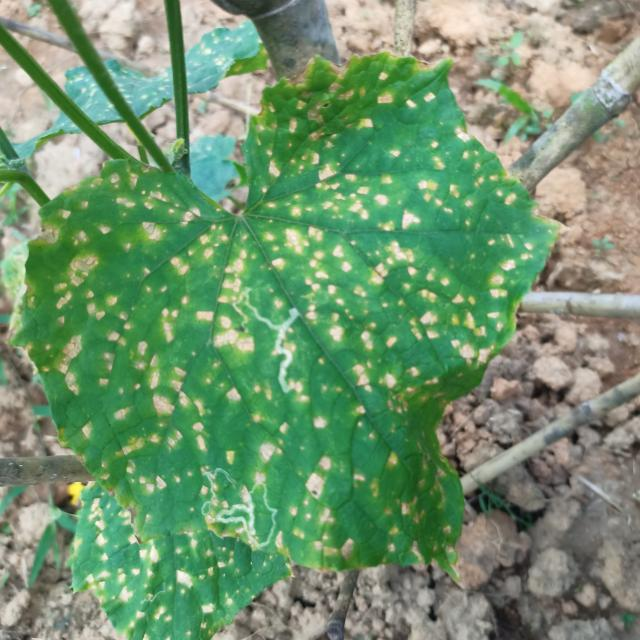disease_cucumber: (43, 93, 509, 555)
